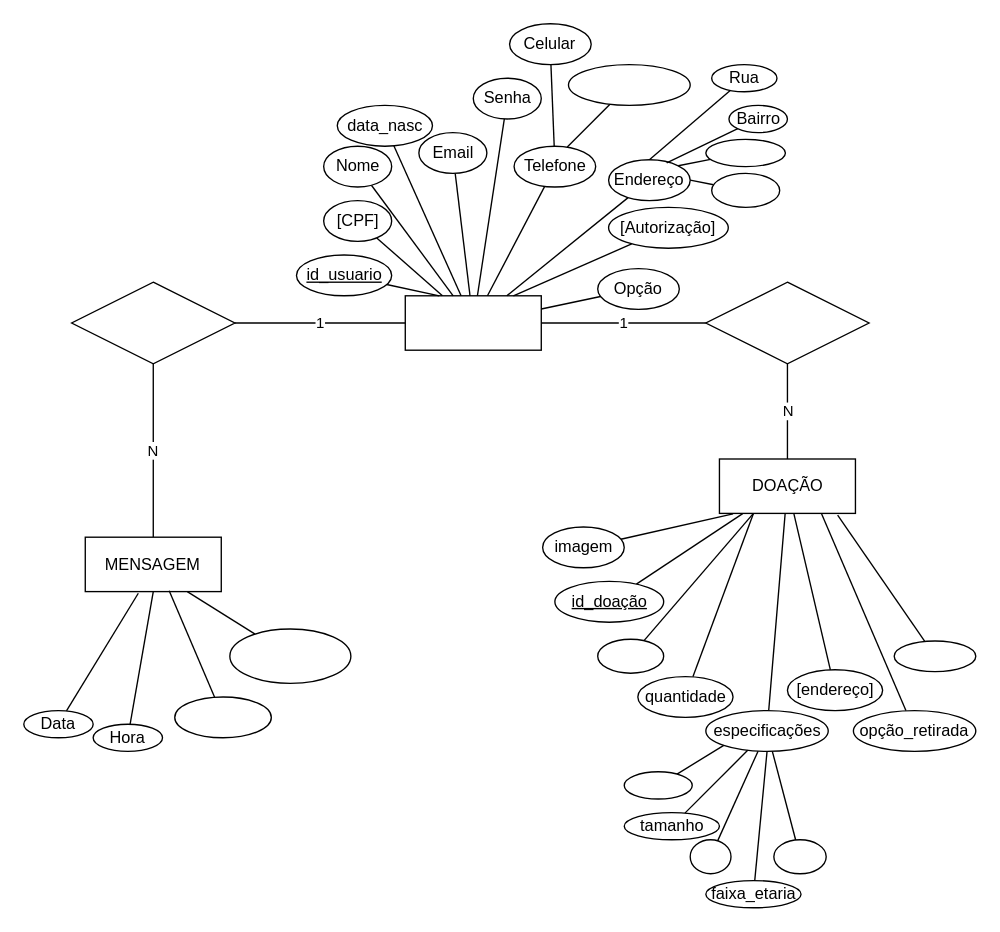
Image size: 1000x932. Some labels were removed from this diagram. The shapes that lost their labels are listed below. From the top down, each one's box as (x1, y1, x2, y2) in pixels, then its label:
(567, 63, 690, 105): [Telefone fixo]
(704, 138, 785, 167): Número
(710, 172, 780, 207): Cidade
(70, 281, 235, 364): Envia
(404, 294, 541, 350): USUÁRIO
(704, 281, 869, 364): Realiza
(228, 628, 351, 683): id_mensagem
(596, 638, 664, 673): status
(893, 640, 976, 672): escolha
(173, 696, 271, 738): Conteúdo
(623, 770, 692, 799): sexo
(689, 838, 731, 874): tipo
(772, 838, 826, 874): [cor]
